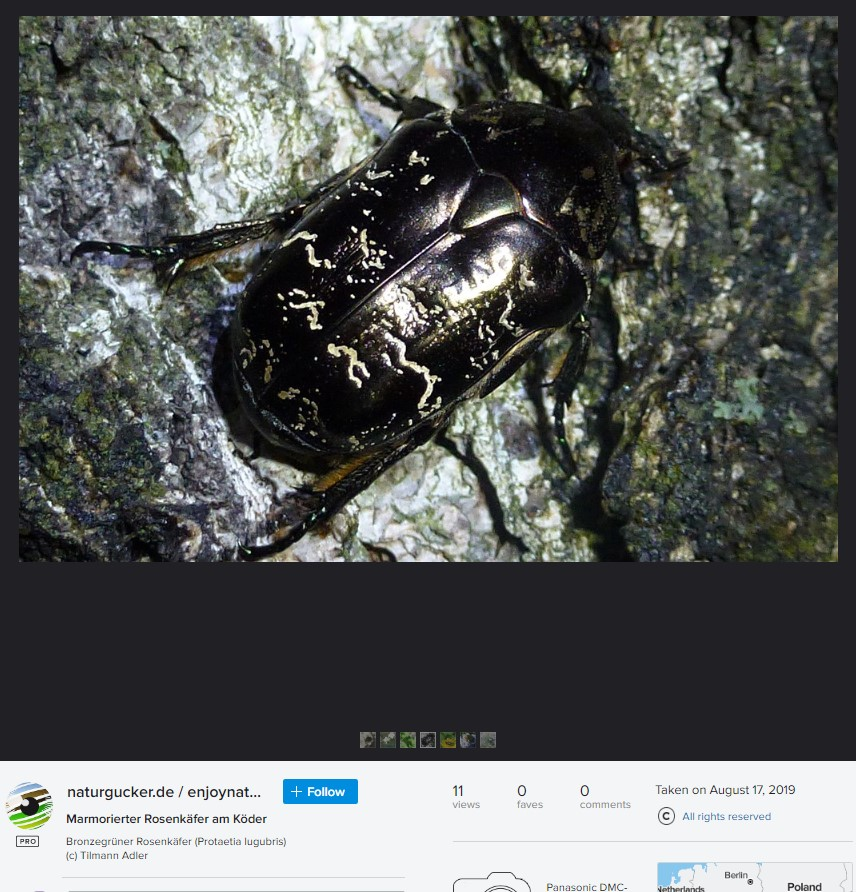Protaetia_lugubris: (72, 52, 628, 558)
